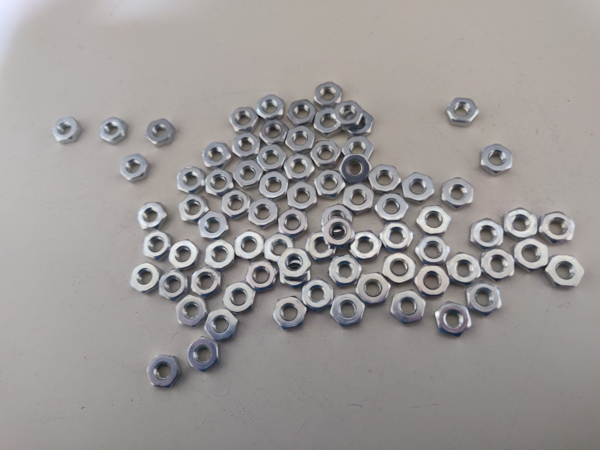nut: (549, 254, 586, 291), (436, 302, 471, 339), (540, 210, 575, 245), (391, 292, 426, 327), (356, 273, 392, 307), (190, 336, 222, 374), (148, 355, 182, 390), (329, 254, 364, 288), (515, 239, 549, 273), (273, 297, 307, 331), (332, 295, 366, 329), (449, 253, 484, 286), (440, 178, 476, 210), (176, 295, 208, 330), (503, 208, 539, 239), (206, 309, 238, 343), (157, 272, 191, 304), (468, 284, 503, 315), (381, 222, 416, 253), (302, 278, 333, 313), (479, 145, 515, 175), (277, 249, 314, 278), (483, 247, 515, 280), (383, 253, 416, 285), (418, 266, 450, 299), (130, 263, 161, 297), (417, 205, 451, 236), (468, 219, 505, 247), (223, 284, 256, 315), (416, 236, 451, 265), (146, 118, 178, 149), (403, 172, 434, 204), (343, 185, 375, 216), (202, 239, 233, 271), (177, 195, 209, 226), (376, 193, 409, 223), (174, 167, 207, 197), (445, 99, 479, 128), (322, 204, 357, 232), (52, 115, 83, 146), (370, 165, 402, 195), (264, 235, 294, 267), (234, 233, 267, 262), (278, 260, 312, 288), (99, 116, 130, 146), (288, 181, 318, 212), (351, 231, 383, 260), (248, 199, 277, 231), (305, 231, 338, 259), (192, 267, 222, 297), (170, 240, 200, 270), (120, 153, 151, 182), (198, 212, 229, 241), (222, 190, 253, 219), (233, 160, 263, 189), (137, 202, 168, 230), (279, 208, 307, 239), (228, 106, 259, 134), (257, 144, 286, 173), (203, 143, 235, 169), (317, 170, 346, 198), (248, 263, 277, 291), (233, 130, 260, 160), (141, 232, 172, 258), (342, 136, 373, 162), (286, 155, 318, 180), (205, 169, 233, 197), (314, 82, 344, 108), (287, 127, 317, 153), (261, 172, 288, 200), (343, 155, 371, 182), (346, 110, 373, 138), (313, 141, 342, 167), (289, 99, 317, 125), (335, 101, 363, 127), (327, 218, 355, 243), (315, 108, 340, 135), (258, 95, 284, 119), (262, 119, 286, 144)
